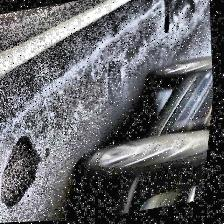pothole: (1, 134, 54, 210)
